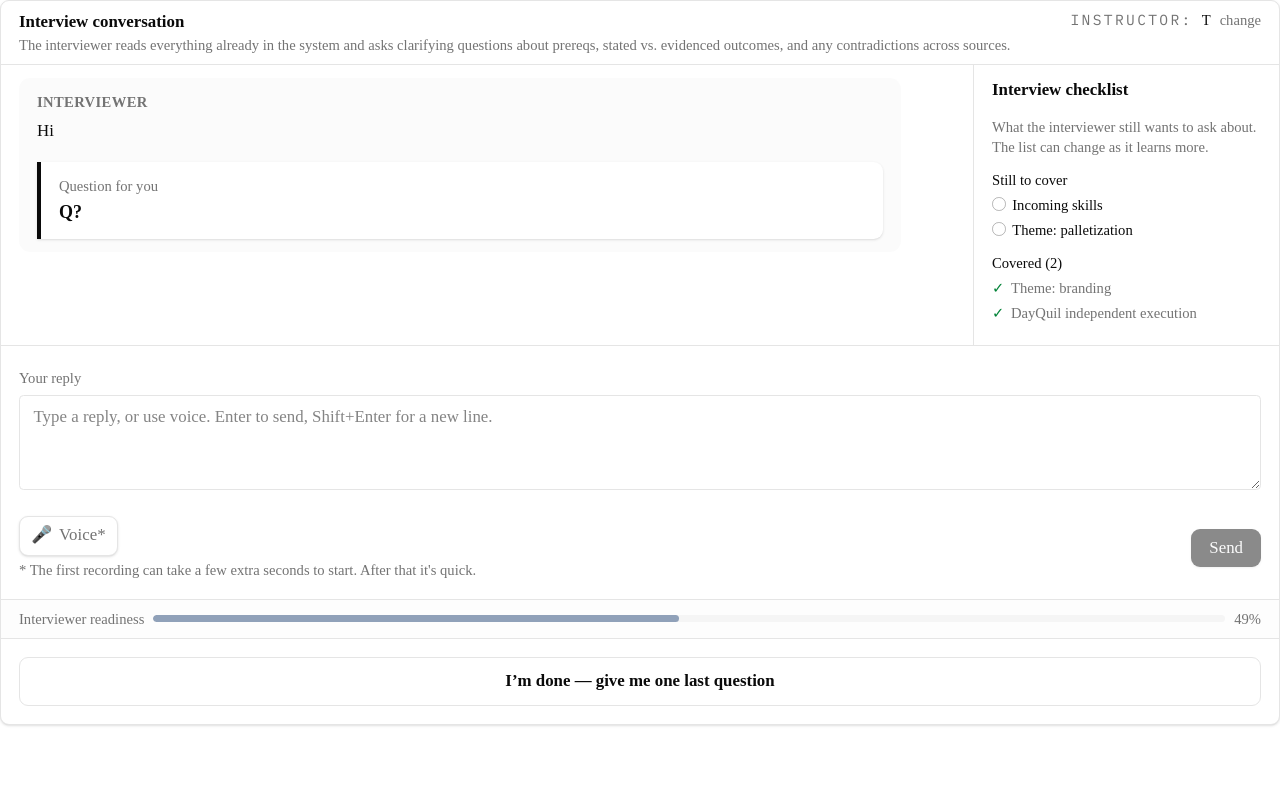
Test: CaptureChatPanel — interview checklist › checks off a newly covered item, marks it new, and keeps the earlier ones
Replace the text in the text box labelled "Your reply" with "We palletize in week 12.": {"x": 640, "y": 443} [19,396,1261,490]
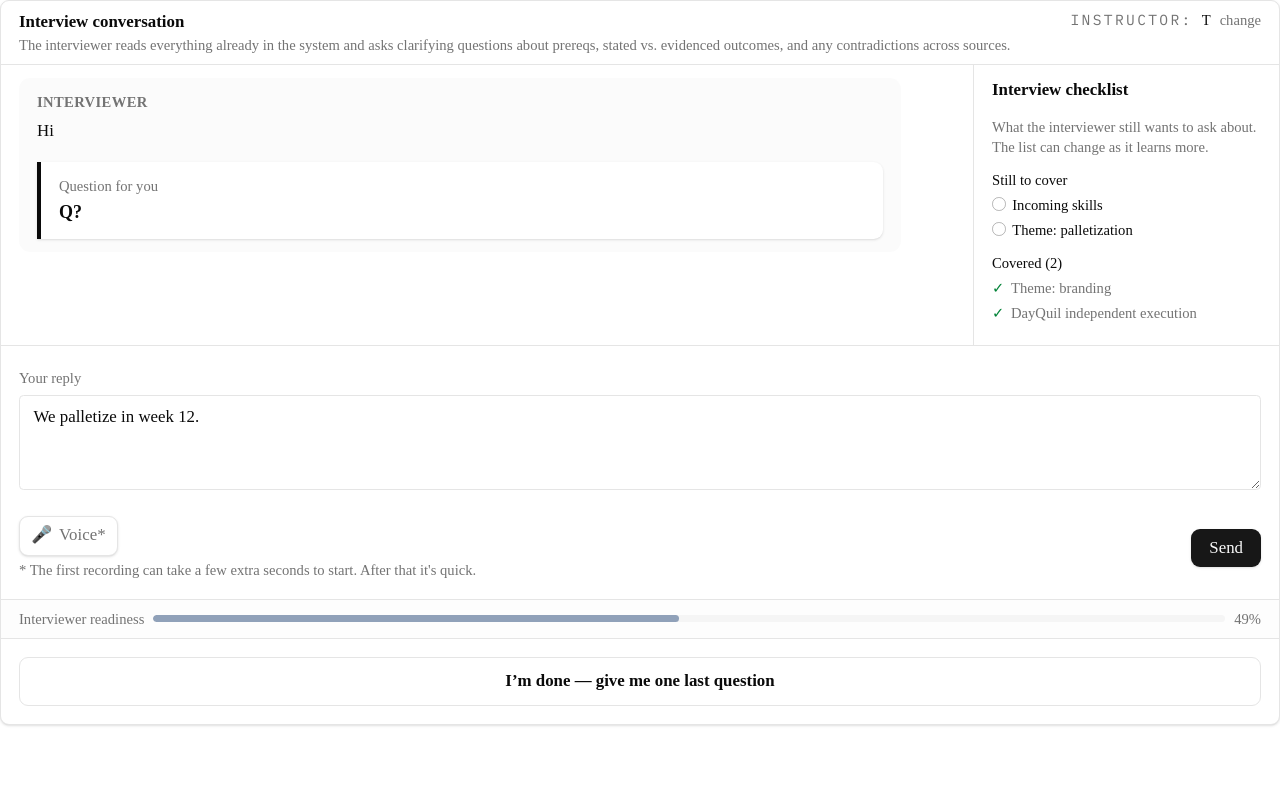
Click the button "Send": {"x": 1226, "y": 548} [1191,529,1261,567]
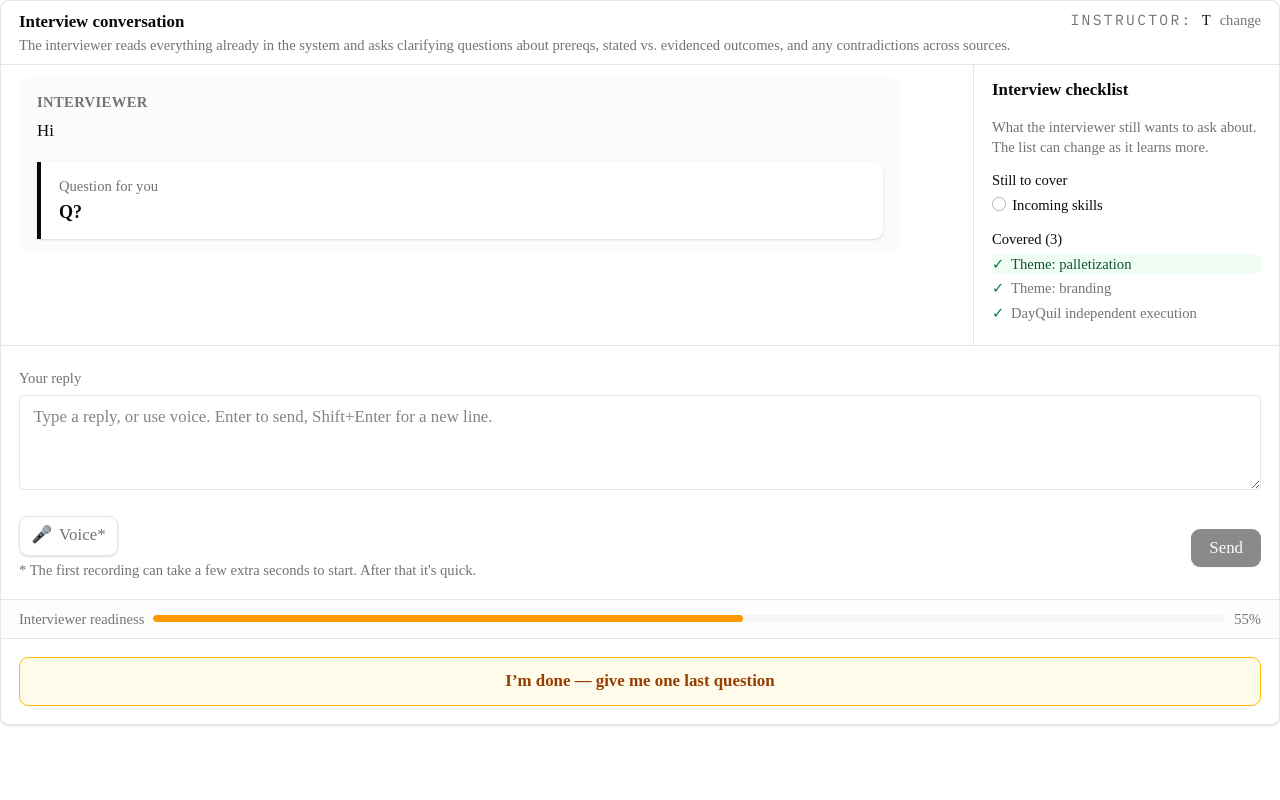
expect the text "DayQuil independent execution" is shown: met, box [1011,303,1197,323]
expect the list item with test id "covered-Theme: palletization" is shown: met, box [992,254,1261,274]
